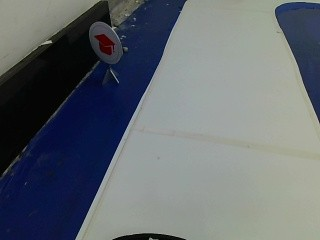school: (86, 20, 123, 63)
